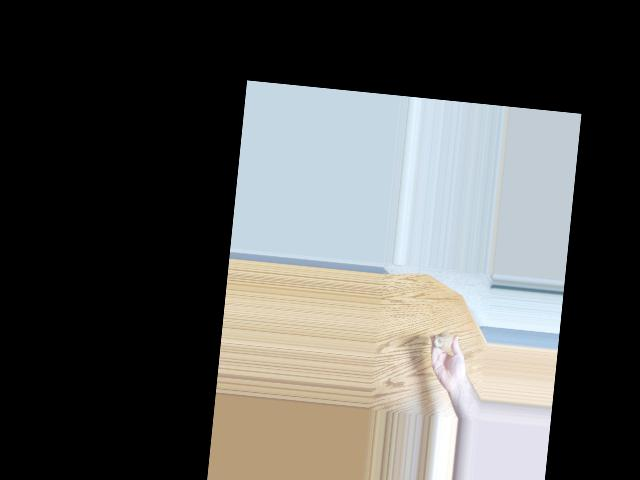sweet_potato: (434, 329, 454, 350)
